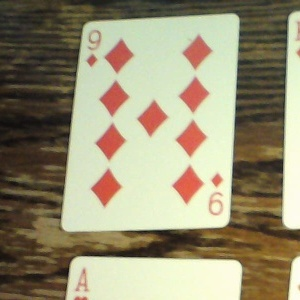card: (59, 13, 240, 230)
